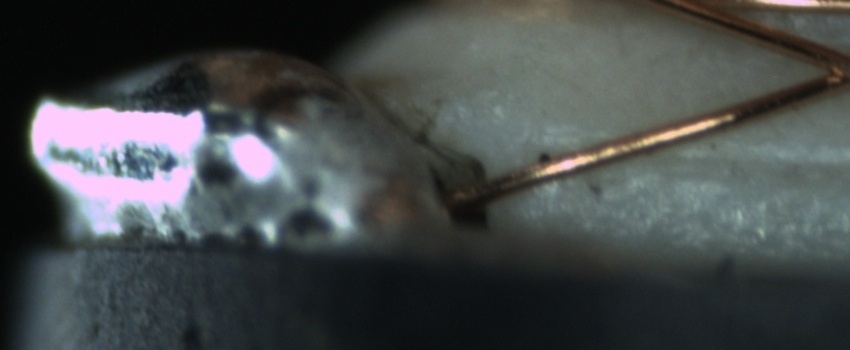CL: (795, 42, 850, 97)
DL: (613, 126, 846, 202)
